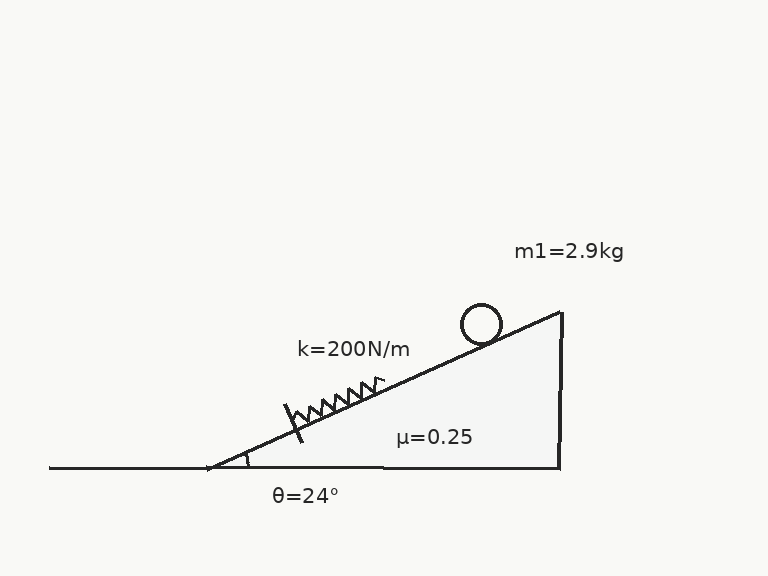ball: (458, 301, 504, 347)
ramp: (206, 309, 562, 470)
spring: (290, 374, 386, 423)
